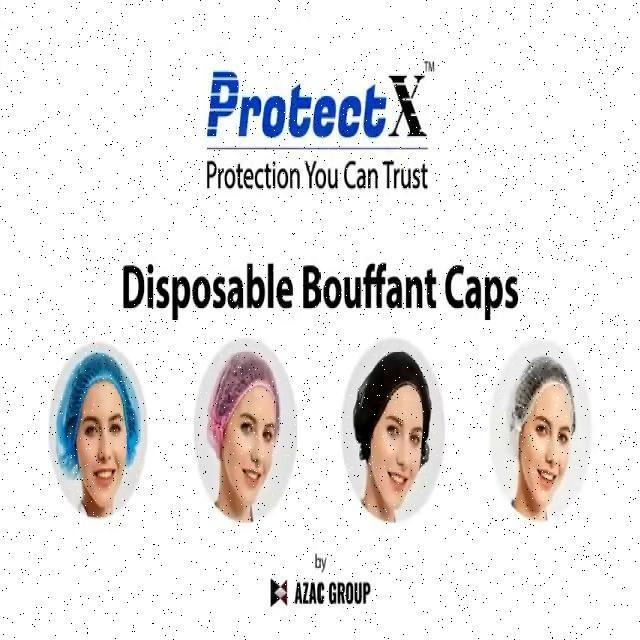no_hairnet: (208, 433, 270, 484), (514, 440, 564, 488), (372, 433, 412, 486), (76, 438, 120, 482)
